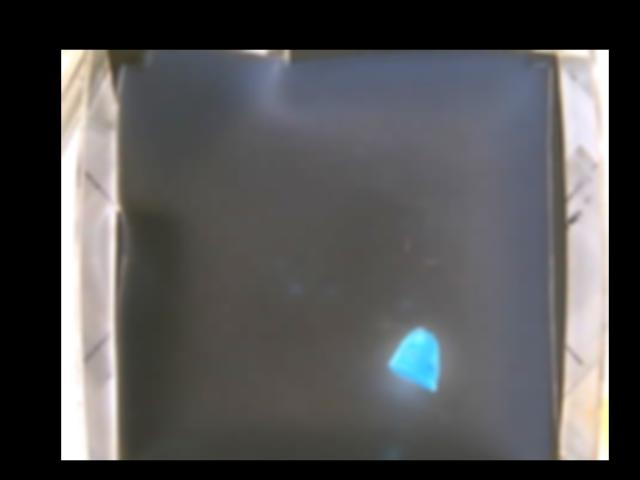Carrot: (391, 326, 437, 391)
